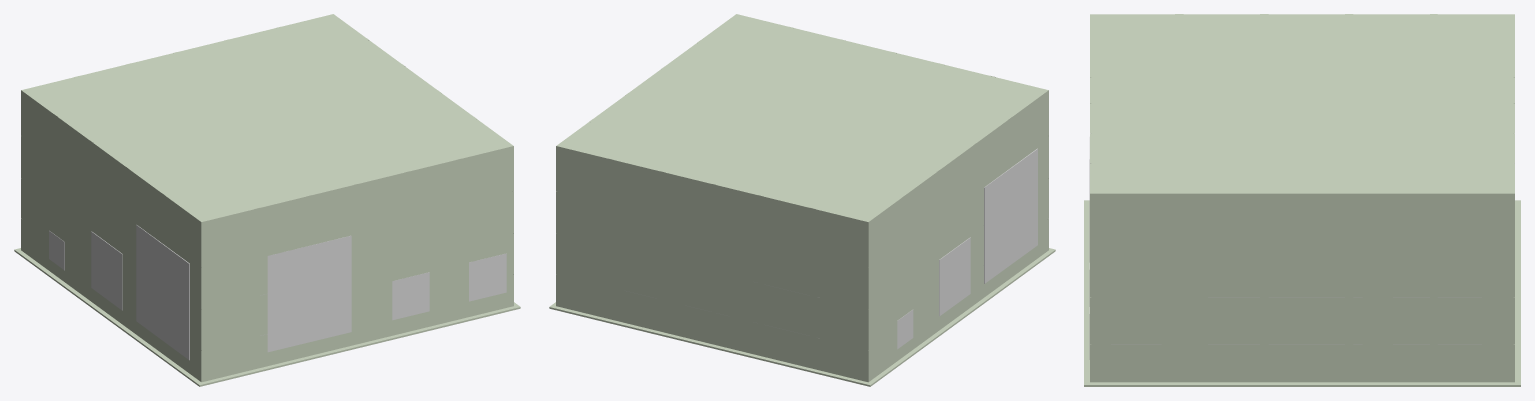
The model's file is artroom3.glb.
3 renders of one model, left to right at view 1: azimuth 30°, elevation 25°; view 2: azimuth 150°, elevation 25°; view 3: azimuth 270°, elevation 25°, orthographic. The views are drawn at different scales.
Visible parts, largest first — view 1: outercube, paint2.034, paint2.035, ground, strip, srip, paint2.036, strip2, strip.001, paint2.032, paint2.033, outercube.043 (+5 smaller); view 2: outercube, paint2.035, ground, strip, paint2.036, srip, strip2, strip.001, outercube.004, outercube.003, srip3, outercube.001 (+2 smaller); view 3: outercube, ground, strip, strip.001, srip, strip2, outercube.037, outercube.038, outercube.025, outercube.026, outercube.028, outercube.029 (+9 smaller).
Boxes of the visible parts, x1=… form: outercube: x1=21, y1=14, x2=513, y2=382; paint2.034: x1=260, y1=235, x2=351, y2=352; paint2.035: x1=136, y1=225, x2=189, y2=360; ground: x1=14, y1=248, x2=520, y2=386; strip: x1=125, y1=90, x2=441, y2=328; srip: x1=89, y1=64, x2=405, y2=302; paint2.036: x1=91, y1=231, x2=122, y2=310; strip2: x1=54, y1=38, x2=369, y2=276; strip.001: x1=161, y1=117, x2=477, y2=355; paint2.032: x1=469, y1=253, x2=506, y2=301; paint2.033: x1=392, y1=272, x2=429, y2=320; outercube.043: x1=165, y1=213, x2=404, y2=267; outercube: x1=556, y1=14, x2=1048, y2=382; paint2.035: x1=984, y1=148, x2=1037, y2=283; ground: x1=549, y1=248, x2=1055, y2=386; strip: x1=661, y1=66, x2=976, y2=305; paint2.036: x1=939, y1=237, x2=970, y2=316; srip: x1=625, y1=93, x2=940, y2=331; strip2: x1=589, y1=119, x2=904, y2=357; strip.001: x1=697, y1=40, x2=1012, y2=279; outercube.004: x1=810, y1=184, x2=848, y2=369; outercube.003: x1=758, y1=171, x2=796, y2=356; srip3: x1=608, y1=134, x2=645, y2=319; outercube.001: x1=660, y1=147, x2=697, y2=332; outercube: x1=1090, y1=14, x2=1514, y2=382; ground: x1=1084, y1=200, x2=1520, y2=386; strip: x1=1260, y1=14, x2=1268, y2=382; strip.001: x1=1175, y1=14, x2=1183, y2=382; srip: x1=1345, y1=14, x2=1353, y2=382; strip2: x1=1430, y1=14, x2=1437, y2=382; outercube.037: x1=1090, y1=289, x2=1174, y2=296; outercube.038: x1=1090, y1=337, x2=1174, y2=344; outercube.025: x1=1437, y1=289, x2=1514, y2=296; outercube.026: x1=1437, y1=337, x2=1514, y2=344; outercube.028: x1=1353, y1=289, x2=1429, y2=296; outercube.029: x1=1353, y1=337, x2=1429, y2=344.
Size of the model in its own units: 200 by 99.34 by 200.
